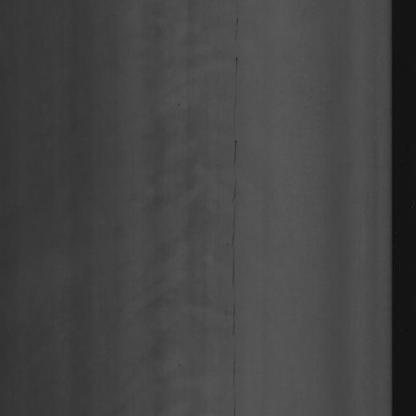inclusion: (226, 22, 249, 402)
